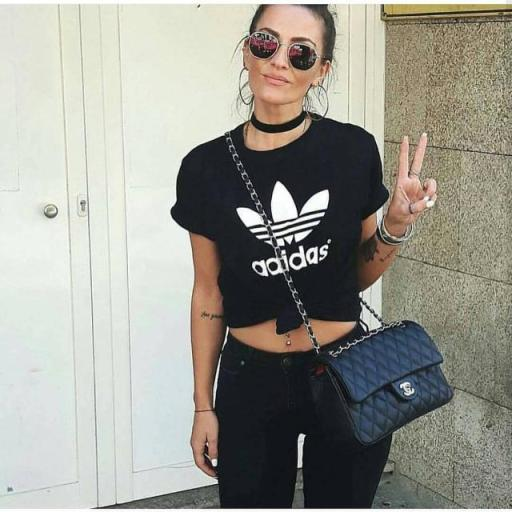Adidas: (236, 179, 334, 278)
